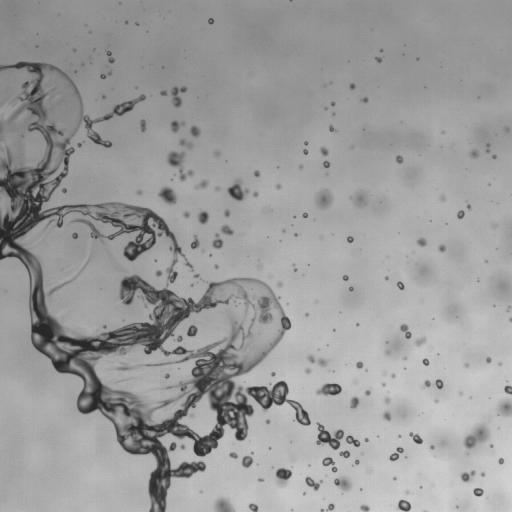droplet: (167, 151, 193, 181), (227, 179, 249, 201), (158, 186, 177, 204), (315, 189, 333, 208), (275, 468, 292, 487), (171, 86, 186, 107), (214, 497, 235, 511), (350, 190, 367, 207), (334, 476, 351, 491), (305, 477, 322, 490), (460, 470, 475, 482), (212, 233, 223, 249), (170, 120, 184, 132), (241, 454, 253, 467), (400, 324, 411, 338), (397, 500, 411, 511), (198, 211, 209, 224), (186, 324, 197, 337), (221, 224, 233, 235), (414, 336, 426, 346), (191, 235, 199, 249), (190, 126, 200, 137), (350, 396, 359, 408), (434, 379, 443, 389), (339, 450, 350, 458), (382, 411, 391, 420), (473, 488, 483, 496), (248, 503, 258, 511), (320, 147, 328, 156), (417, 238, 426, 246), (422, 380, 431, 388), (470, 149, 478, 157), (360, 504, 369, 511), (396, 155, 403, 163), (457, 210, 464, 218), (438, 244, 445, 252), (397, 281, 404, 289), (422, 358, 429, 366), (155, 270, 162, 277), (356, 361, 363, 368), (229, 452, 237, 458), (254, 170, 260, 177), (224, 209, 229, 217), (349, 83, 355, 89), (329, 125, 335, 131), (323, 161, 329, 167), (183, 211, 189, 217), (347, 236, 353, 242), (384, 397, 390, 403), (498, 458, 504, 464), (375, 57, 381, 62), (361, 97, 367, 102), (214, 151, 220, 156), (253, 191, 258, 197), (72, 232, 77, 238), (342, 275, 348, 280), (486, 357, 491, 363), (164, 373, 169, 379), (208, 18, 213, 23), (77, 142, 82, 147), (303, 149, 308, 154), (276, 184, 281, 189), (440, 196, 445, 201), (302, 212, 307, 217), (277, 282, 282, 287), (305, 368, 310, 373), (365, 390, 370, 395), (180, 444, 185, 449), (354, 459, 359, 464), (100, 74, 106, 78), (160, 91, 166, 95), (504, 127, 509, 131), (215, 186, 219, 191), (62, 188, 66, 193), (467, 204, 471, 209), (391, 373, 395, 378), (492, 154, 496, 158), (137, 190, 141, 194), (214, 264, 218, 268), (349, 287, 353, 291), (386, 350, 390, 354), (464, 363, 468, 367), (271, 372, 275, 376), (266, 419, 270, 423), (364, 438, 368, 442), (430, 445, 434, 449), (293, 266, 296, 271), (194, 274, 199, 277), (121, 378, 126, 381), (258, 478, 263, 481), (0, 100, 4, 103), (331, 102, 335, 105), (486, 148, 489, 152), (507, 306, 510, 310), (382, 382, 385, 386), (481, 472, 484, 476), (509, 317, 511, 322), (102, 95, 105, 98), (304, 141, 307, 144), (299, 165, 302, 168), (493, 224, 496, 227), (385, 276, 388, 279), (498, 362, 501, 365), (406, 490, 409, 493), (282, 230, 285, 232), (356, 323, 359, 325), (490, 444, 492, 447), (393, 477, 396, 479), (303, 492, 305, 495), (109, 72, 111, 74), (487, 144, 489, 146), (258, 266, 260, 268), (435, 400, 437, 402)
ligament: (0, 64, 310, 511), (316, 422, 360, 449), (463, 421, 489, 448), (495, 384, 511, 417), (316, 383, 341, 395), (307, 354, 329, 366), (322, 456, 337, 472), (389, 447, 403, 461), (409, 432, 422, 444), (104, 247, 114, 261), (179, 139, 192, 148), (194, 180, 208, 188), (320, 503, 334, 511), (106, 51, 114, 63), (140, 120, 145, 131), (2, 85, 9, 91), (110, 380, 117, 384)
